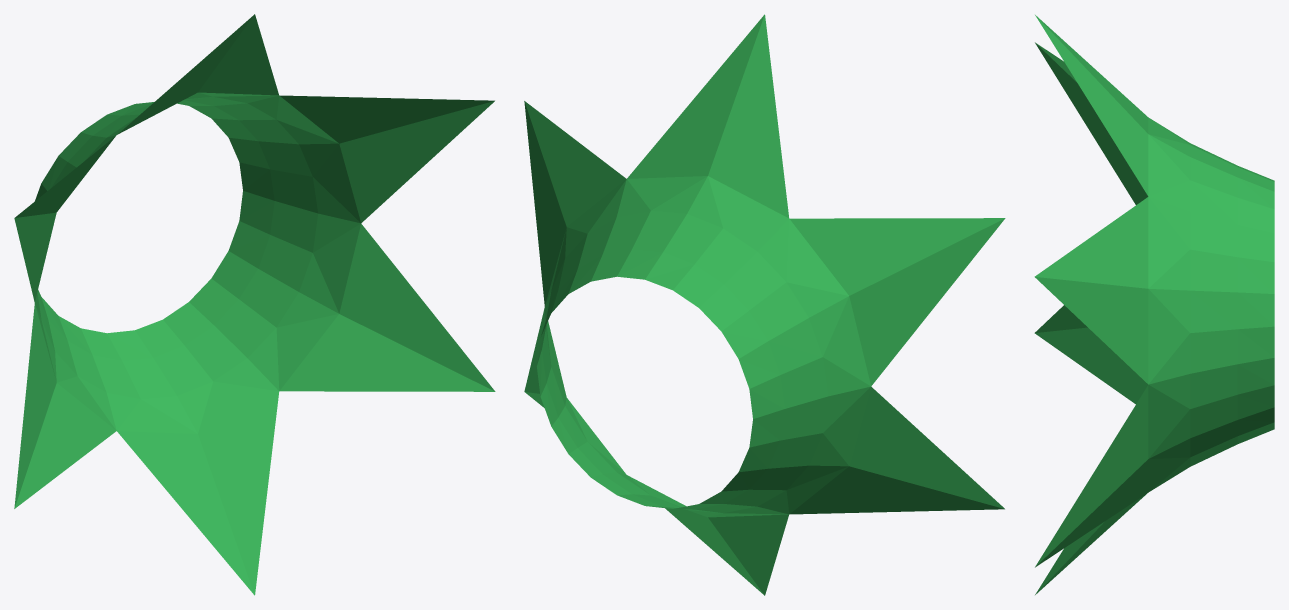
Rendered from BR_Drifblim-Shiny01.obj.
The picture shows the model from 3 angles, left to right: view 1: azimuth 30°, elevation 25°; view 2: azimuth 150°, elevation 25°; view 3: azimuth 270°, elevation 25°; orthographic projection.
Parts seen in each view (by area): view 1: fuwaride_c; view 2: fuwaride_c; view 3: fuwaride_c.
Boxes of the visible parts, left/top/right/bottom form: fuwaride_c: left=14, top=14, right=495, bottom=595; fuwaride_c: left=524, top=14, right=1005, bottom=595; fuwaride_c: left=1034, top=15, right=1274, bottom=594.
Bounding box in the file's own units: 3.26 × 3.76 × 1.41.
1 material, 1 textured.
